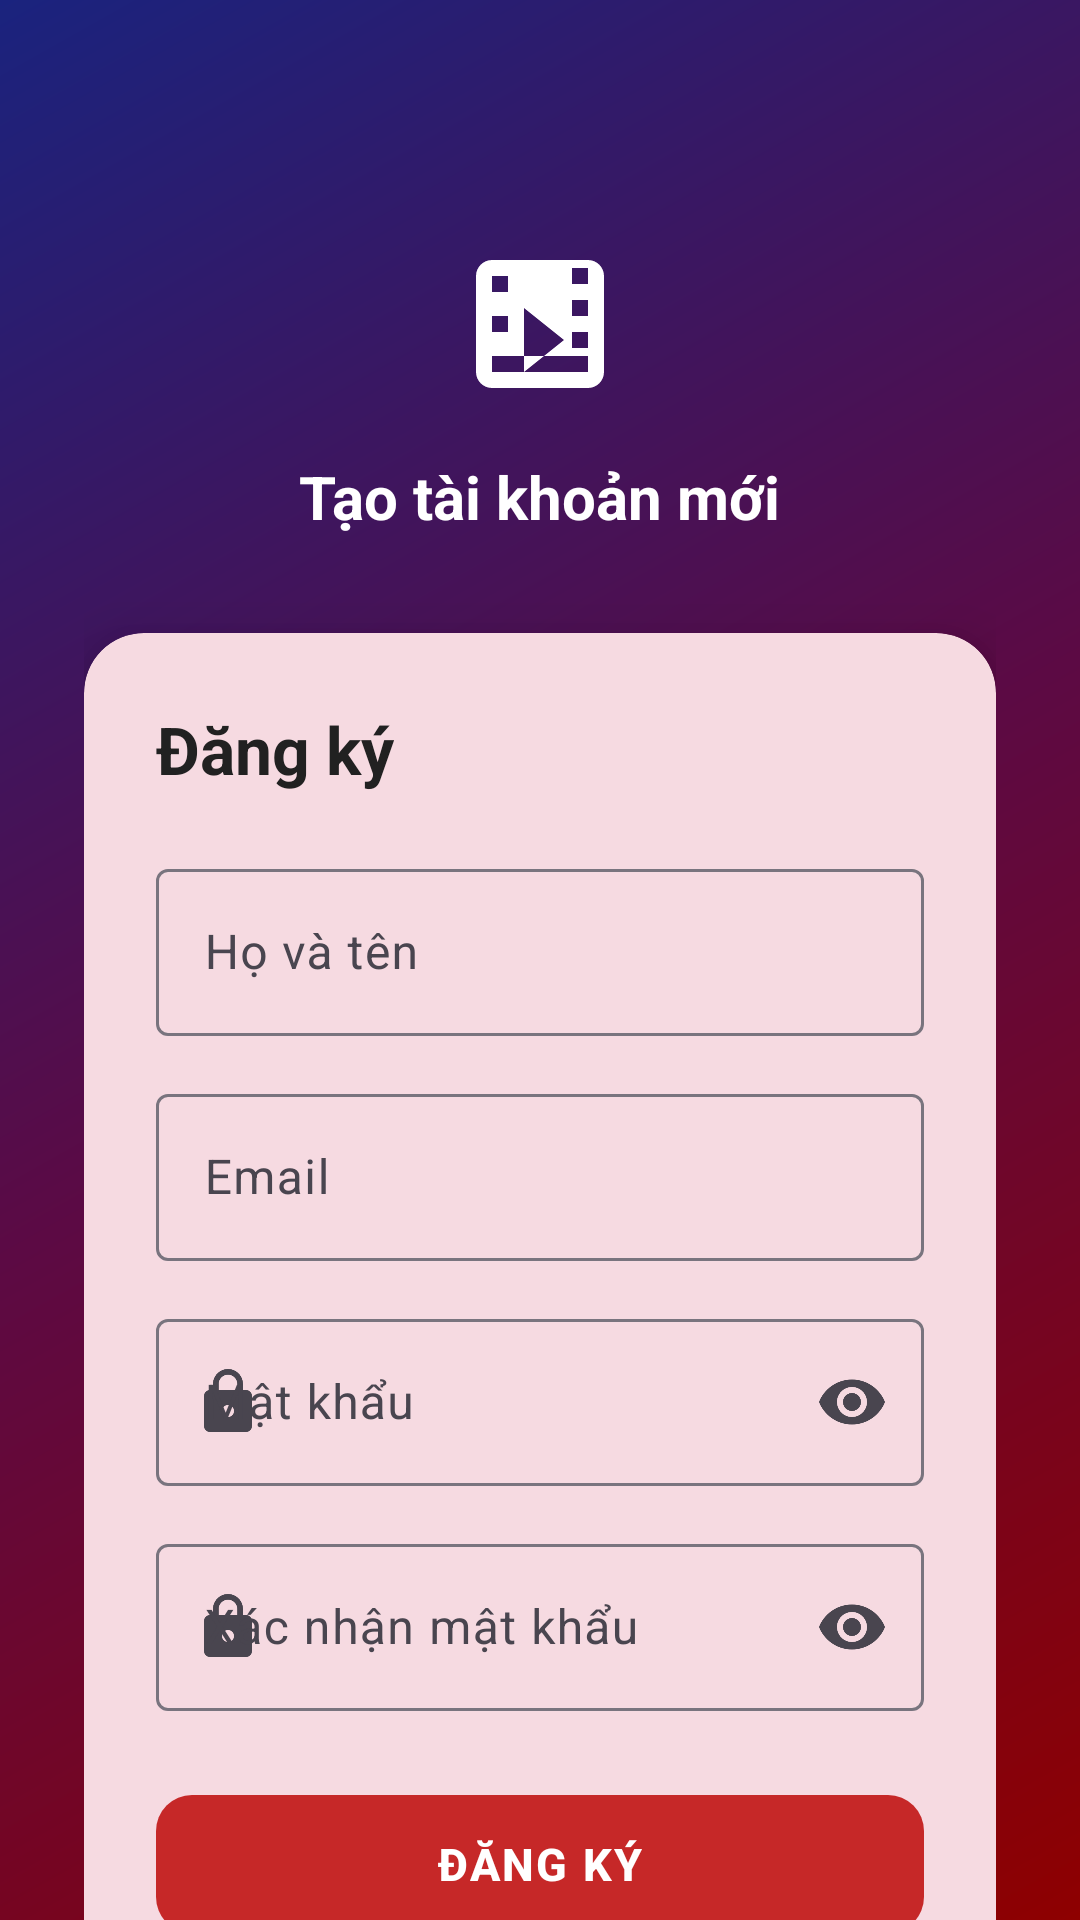

Locate icon controls on the screen. Image size 1080px×1920px, boxes as (x1, y1, x2, y2).
movie: (476, 260, 604, 388)
